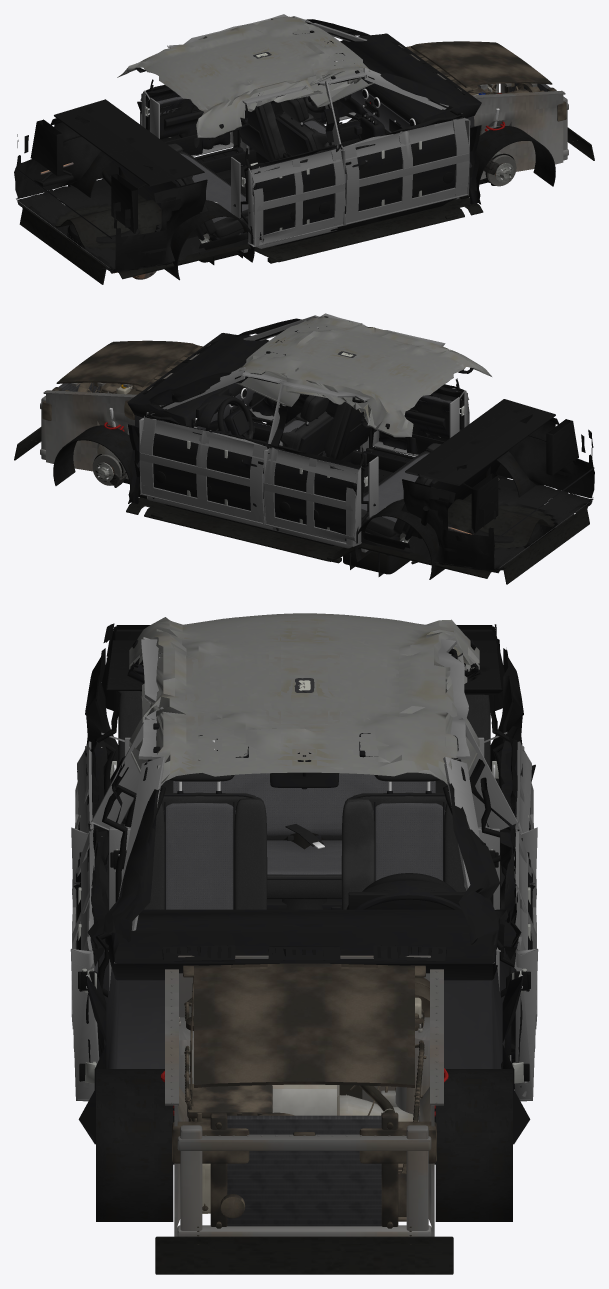
The model's file is barao_completo.glb.
3 views of the same model, one above another, from view 1: azimuth 30°, elevation 25°; view 2: azimuth 150°, elevation 25°; view 3: azimuth 270°, elevation 25° (orthographic). The views are drawn at different scales.
Parts seen in each view (by area): view 1: interior_forro_teto, interior_portamalas_carpete, under_assoalho, door_card_fr_chapa, interior_painel, interior_portamalas_tampao, door_card_rr_chapa, engine_paralama_interno_dir, door_card_fr, hood_manta, door_card_rr, interior_banco_traseiro (+24 smaller); view 2: interior_forro_teto, interior_portamalas_carpete, under_assoalho, door_card_fl_chapa, interior_painel, interior_portamalas_tampao, door_card_rl_chapa, door_card_fl, engine_paralama_interno_esq, hood_manta, door_card_rl, interior_banco_traseiro (+27 smaller); view 3: interior_forro_teto, interior_painel, hood_manta, engine_radiador, engine_travessa, interior_banco_dianteiro_dir, interior_banco_traseiro, under_saias, under_caixa_roda_fr, under_caixa_roda_fl, interior_banco_dianteiro_esq, interior_acabamento_colunas (+27 smaller).
Part boxes in pixels (x1,y1,x2,y2): interior_forro_teto: (117,17,373,137); interior_portamalas_carpete: (14,118,207,273); under_assoalho: (29,194,483,279); door_card_fr_chapa: (341,117,470,225); interior_painel: (338,33,481,167); interior_portamalas_tampao: (54,99,204,186); door_card_rr_chapa: (248,147,345,247); engine_paralama_interno_dir: (472,88,565,179); door_card_fr: (339,115,462,211); hood_manta: (411,41,552,88); door_card_rr: (249,144,337,241); interior_banco_traseiro: (101,143,248,240); interior_forro_teto: (235,316,491,437); interior_portamalas_carpete: (402,417,594,573); under_assoalho: (126,494,582,578); door_card_fl_chapa: (139,416,267,525); interior_painel: (127,333,268,467); interior_portamalas_tampao: (405,399,555,485); door_card_rl_chapa: (263,447,361,546); door_card_fl: (145,414,267,510); engine_paralama_interno_esq: (43,388,136,479); hood_manta: (56,340,198,387); door_card_rl: (271,445,359,540); interior_banco_traseiro: (361,443,507,540); interior_forro_teto: (127,613,481,785); interior_painel: (99,880,509,1068); hood_manta: (194,963,414,1087); engine_radiador: (210,1112,398,1228); engine_travessa: (172,1086,436,1236); interior_banco_dianteiro_dir: (122,773,267,909); interior_banco_traseiro: (108,677,500,909); under_saias: (155,1236,453,1274); under_caixa_roda_fr: (96,1069,173,1221); under_caixa_roda_fl: (435,1069,512,1221); interior_banco_dianteiro_esq: (341,772,465,909); interior_acabamento_colunas: (103,712,513,944).
Size of what is drawn, in the model's own units: 4.17 by 1.47 by 1.69.
Materials: 55 (55 with a texture image).
